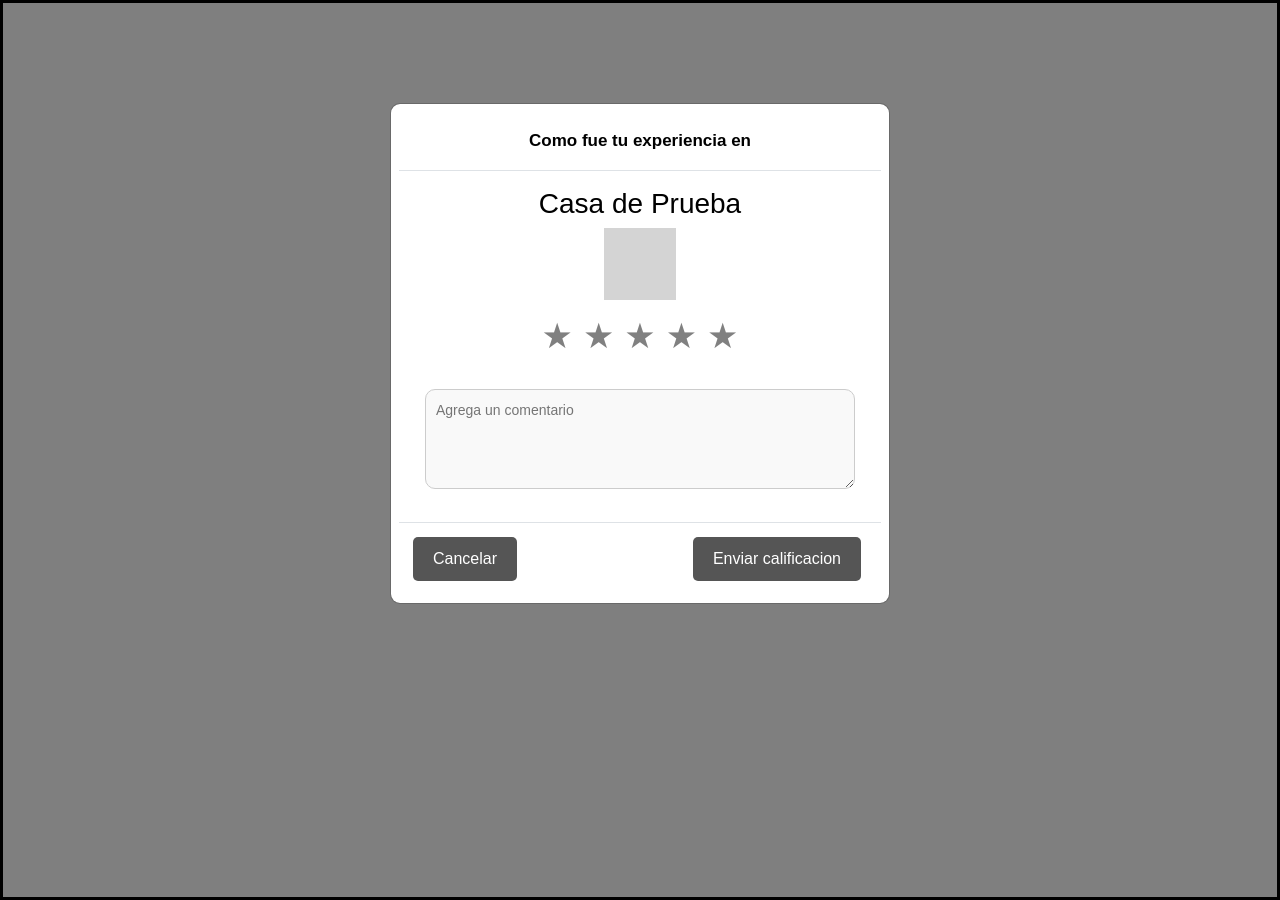
Test: ServiceRating › Seleccionar estrellas actualiza el puntaje y muestra la descripción correcta
The image size is (1280, 900).
expect the heading "Casa de Prueba" is shown: met, box 539,186 -> 741,220
Click the 3rd button "★": click(640, 336) 624,310 -> 656,363
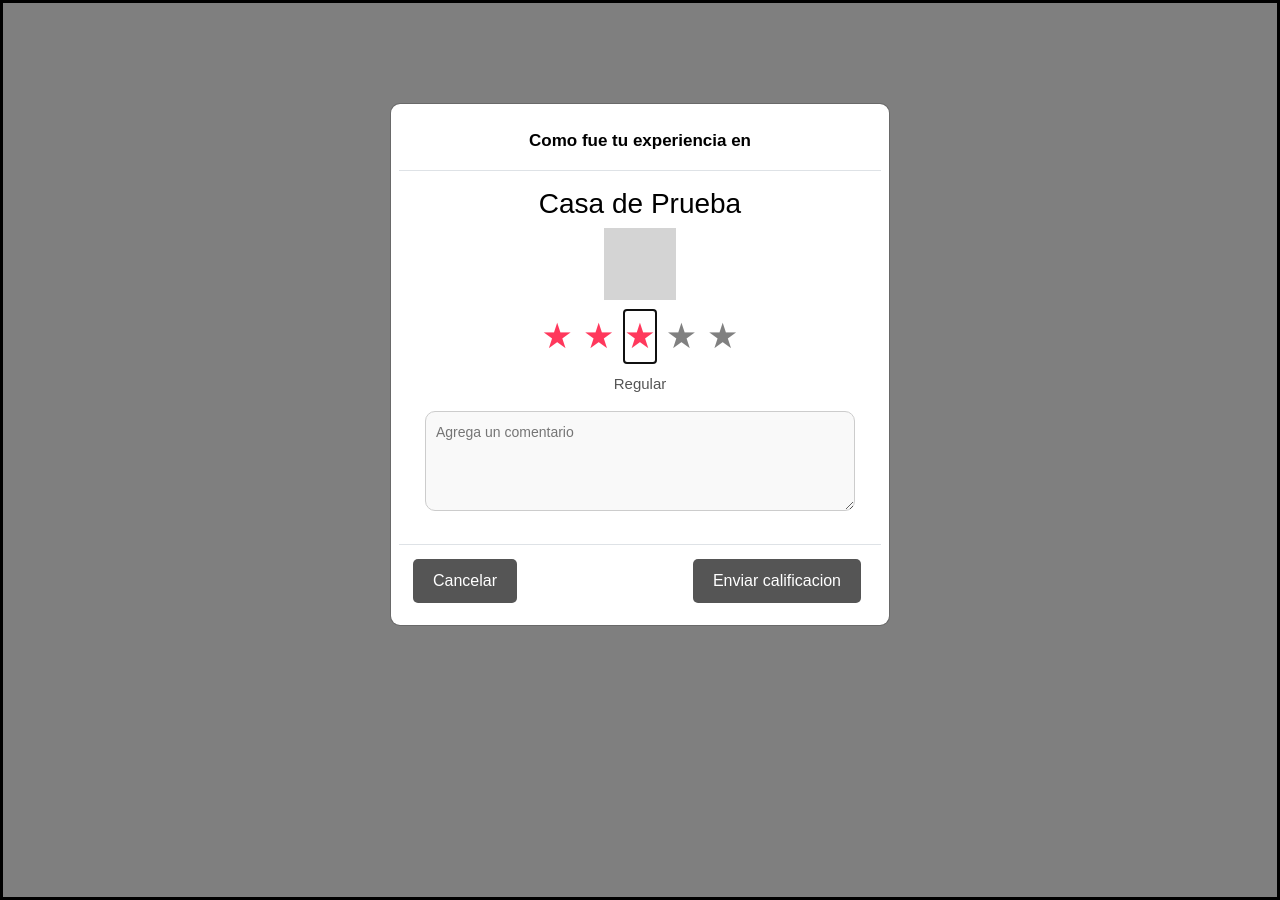
expect the text "Regular" is shown: met, box 614,375 -> 666,392
